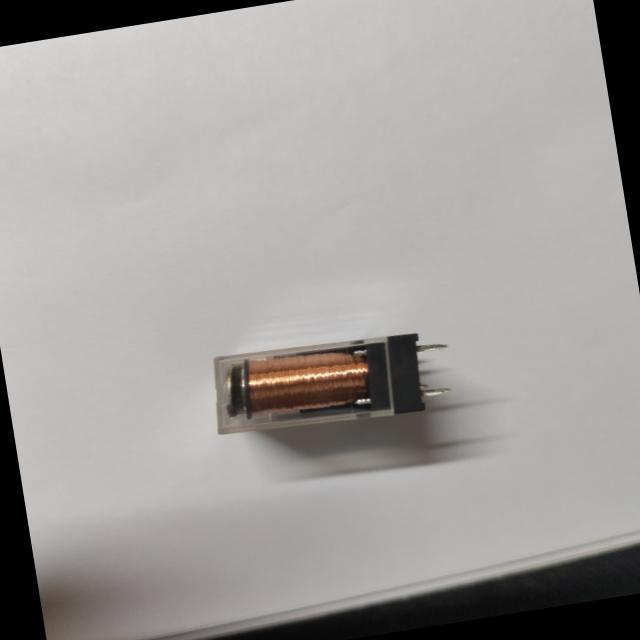relay: (192, 310, 464, 456)
